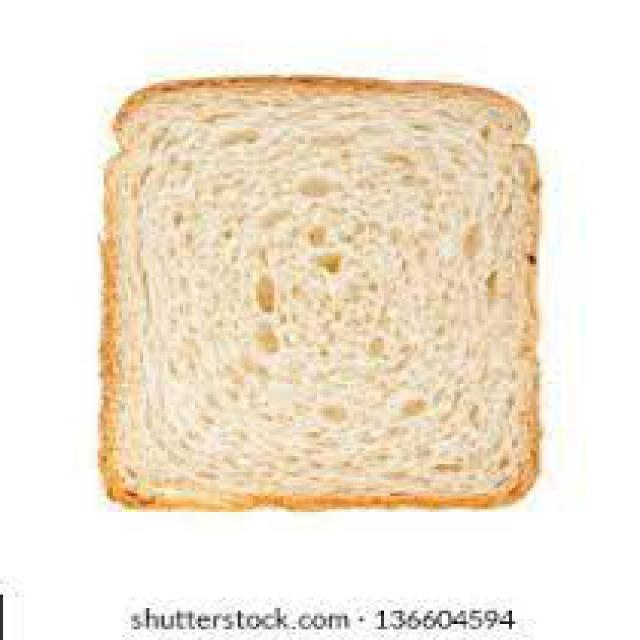Bread: (100, 79, 541, 512)
